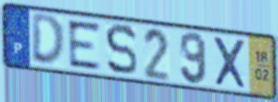2: (142, 26, 173, 83)
9: (178, 30, 209, 87)
D: (30, 13, 67, 68)
E: (65, 18, 103, 71)
S: (103, 22, 139, 78)
X: (211, 34, 249, 92)
